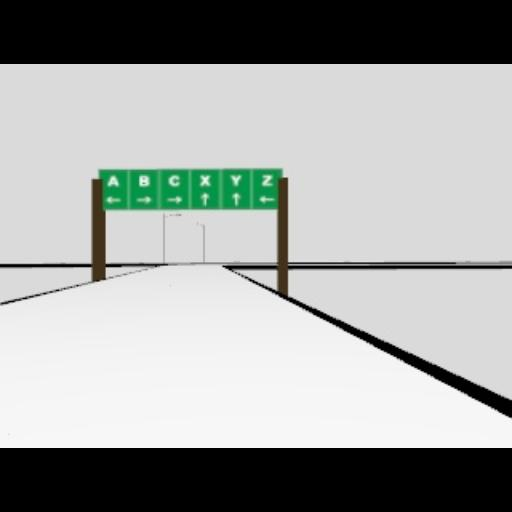A: (106, 174, 118, 186)
B: (138, 174, 148, 186)
C: (166, 174, 180, 186)
Left: (259, 195, 275, 203), (106, 195, 120, 203)
Right: (166, 195, 182, 203), (134, 195, 150, 203)
Straight: (230, 192, 240, 204), (200, 192, 208, 204)
X: (198, 174, 212, 186)
Y: (228, 172, 242, 186)
Z: (260, 172, 272, 186)
